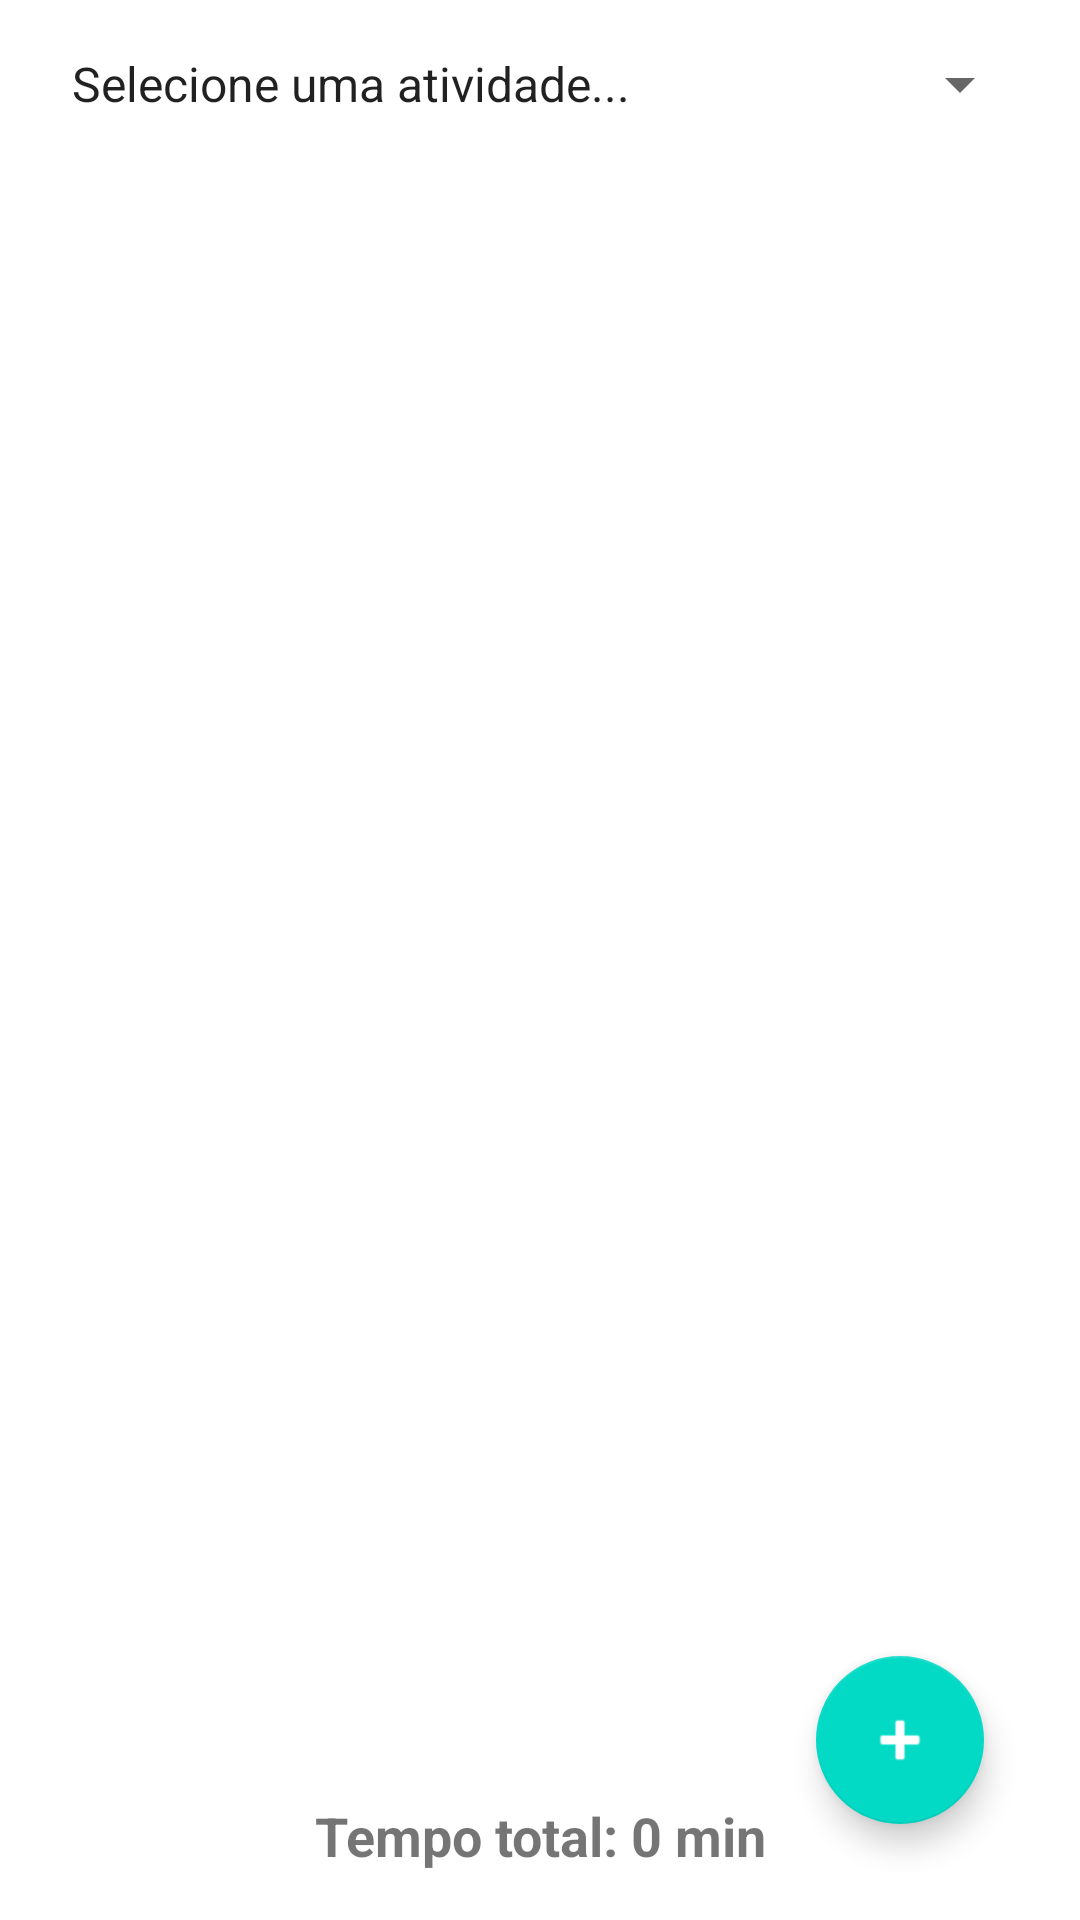

Named icons in this screenshot (1080×1920) and their bounding boxes, (x1, y1, x2, y2):
Adicionar Treino: (816, 1656, 984, 1824)
